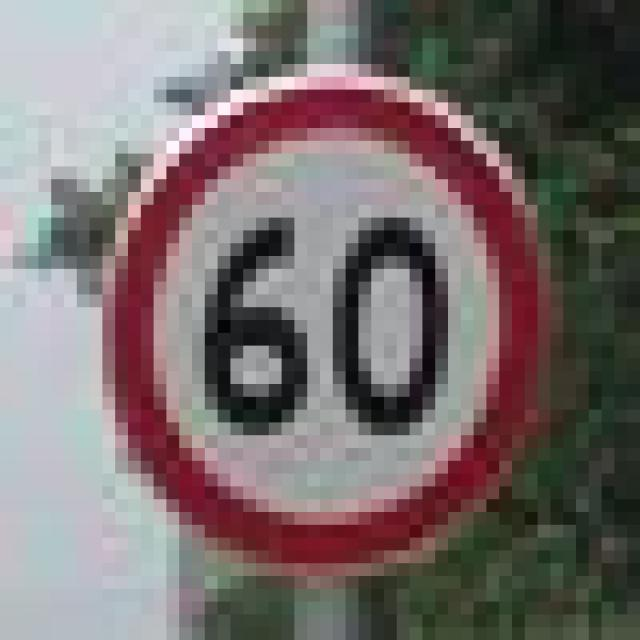SPEED_LIMIT_60: (90, 64, 538, 550)
